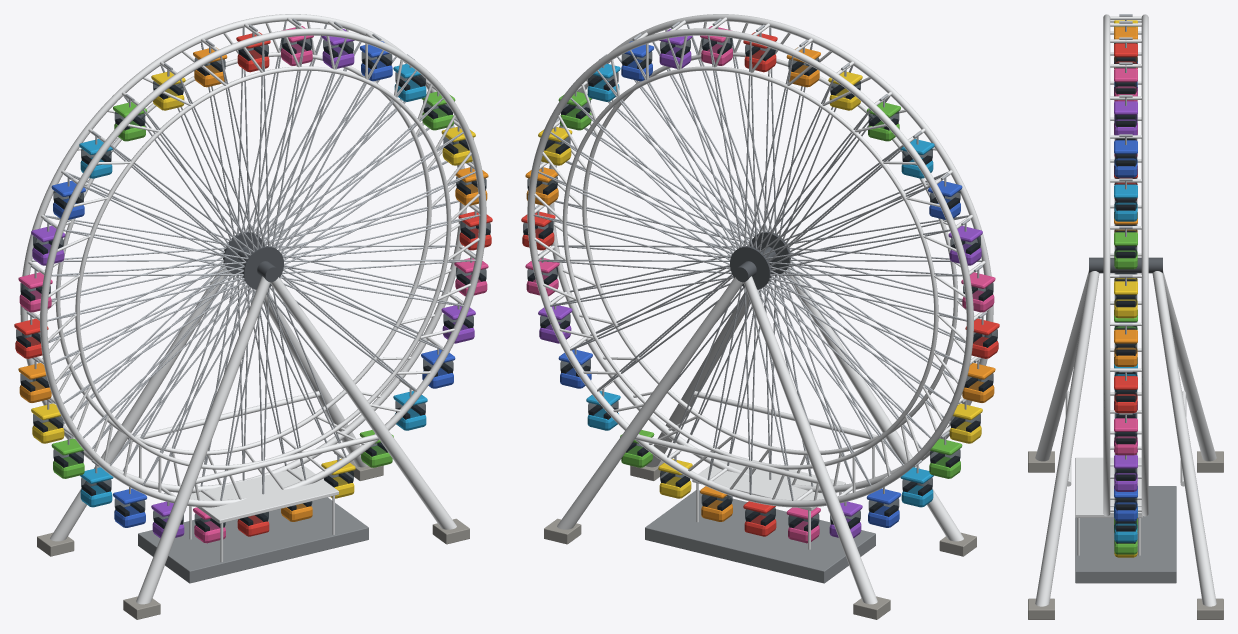
The model's file is ferris_wheel.glb.
3 views of the same model, side by side, from view 1: azimuth 30°, elevation 25°; view 2: azimuth 150°, elevation 25°; view 3: azimuth 270°, elevation 25° (orthographic). The views are drawn at different scales.
Parts seen in each view (by area): view 1: spoke, cross, leg, station, leg_foot, hub_plate, body_low.021, body_low.020, body_low.019, body_low.018, body_low.017, body_low.016 (+4 smaller); view 2: spoke, cross, leg, station, leg_foot, hub_plate, body_low.021, body_low.020, body_low.019, body_low.018, body_low.017, body_low.016 (+8 smaller); view 3: leg, cross, station, leg_foot, axle, body_low.001, body_low.004, body_low.005, body_low.031, body_low, body_low.002, body_low.003 (+11 smaller).
Boxes of the visible parts, <box> form: spoke: <box>32,21,480,500</box>; cross: <box>20,14,486,507</box>; leg: <box>50,266,456,604</box>; station: <box>138,497,368,583</box>; leg_foot: <box>37,460,469,619</box>; hub_plate: <box>223,231,283,289</box>; body_low.021: <box>113,488,147,527</box>; body_low.020: <box>80,467,113,507</box>; body_low.019: <box>51,438,84,478</box>; body_low.018: <box>31,403,64,443</box>; body_low.017: <box>18,363,51,402</box>; body_low.016: <box>14,318,48,358</box>; spoke: <box>533,21,981,500</box>; cross: <box>527,14,993,507</box>; leg: <box>557,266,963,604</box>; station: <box>645,490,875,583</box>; leg_foot: <box>544,460,976,619</box>; hub_plate: <box>730,231,790,289</box>; body_low.021: <box>866,488,900,527</box>; body_low.020: <box>900,467,933,507</box>; body_low.019: <box>929,438,962,478</box>; body_low.018: <box>949,403,982,443</box>; body_low.017: <box>962,363,995,402</box>; body_low.016: <box>965,318,999,358</box>; leg: <box>1035,271,1216,606</box>; cross: <box>1103,14,1148,516</box>; station: <box>1075,486,1176,583</box>; leg_foot: <box>1028,451,1223,619</box>; axle: <box>1089,257,1162,273</box>; body_low.001: <box>1114,329,1137,366</box>; body_low.004: <box>1114,184,1137,221</box>; body_low.005: <box>1114,140,1137,177</box>; body_low.031: <box>1114,418,1137,455</box>; body_low: <box>1114,376,1137,413</box>; body_low.002: <box>1114,281,1137,318</box>; body_low.003: <box>1114,232,1137,269</box>.
Size of the model in its own units: 46.85 by 49.37 by 17.4.
